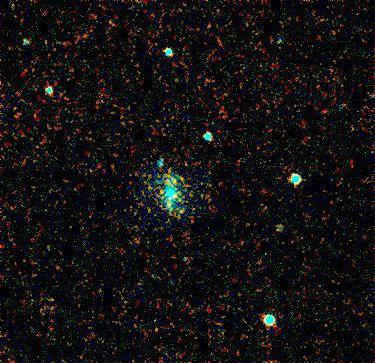star: (152, 187, 182, 217)
